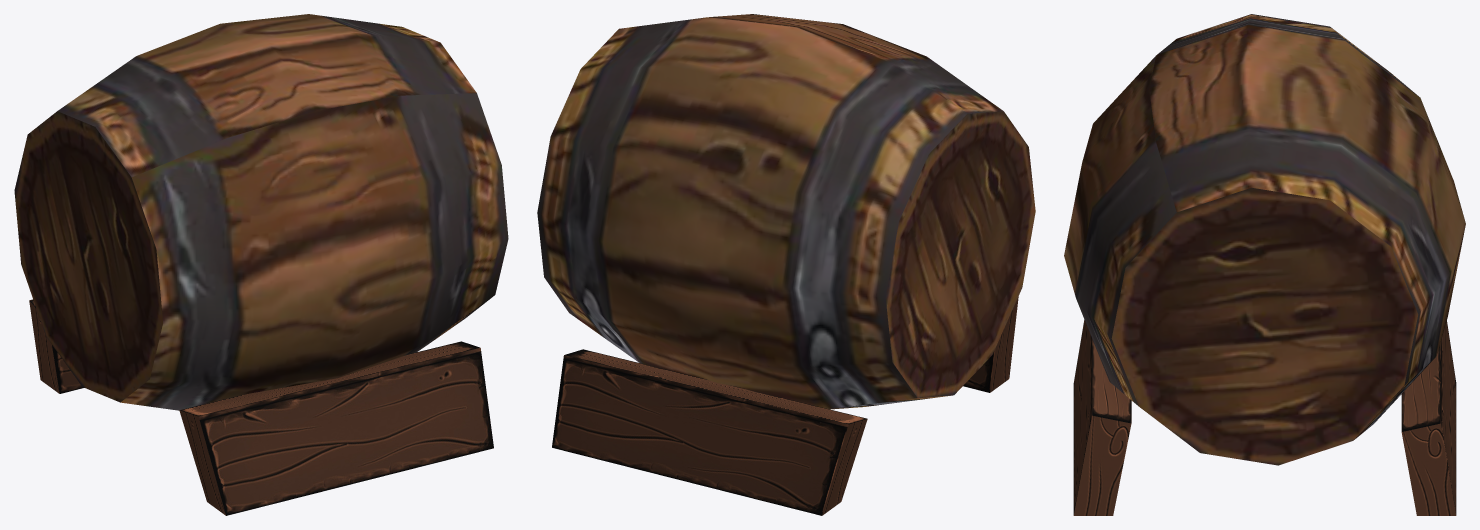
Rendered from Keg.fbx.
3 renders of one model, left to right at view 1: azimuth 30°, elevation 25°; view 2: azimuth 150°, elevation 25°; view 3: azimuth 270°, elevation 25°, orthographic. The views are drawn at different scales.
Visible parts, largest first — view 1: 1_Keg; view 2: 1_Keg; view 3: 1_Keg.
Part boxes in pixels (x1=…): 1_Keg: x1=14, y1=14, x2=508, y2=515; 1_Keg: x1=537, y1=14, x2=1035, y2=515; 1_Keg: x1=1064, y1=14, x2=1465, y2=515.
Size of the model in its own units: 42.17 by 44.19 by 41.23.
